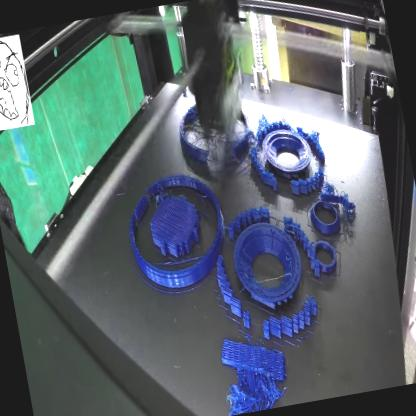fail: (219, 354, 286, 416)
